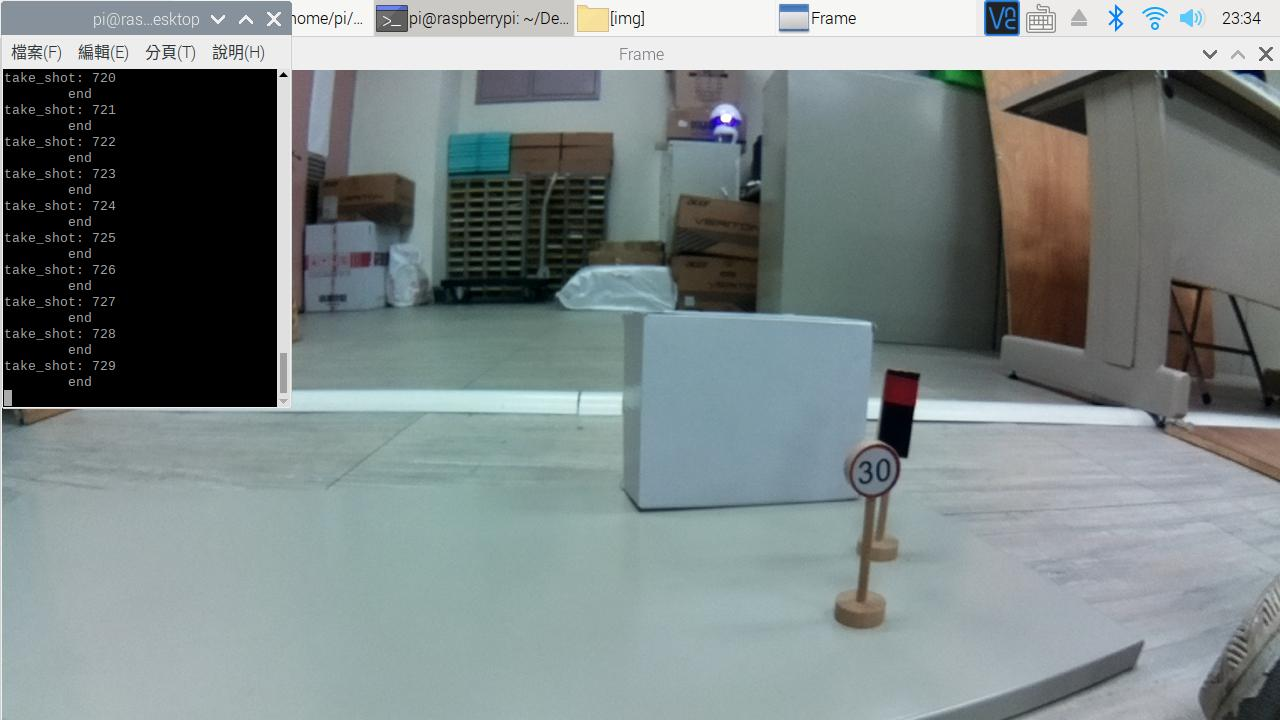Red: (881, 368, 914, 448)
Speed30: (843, 438, 903, 494)
